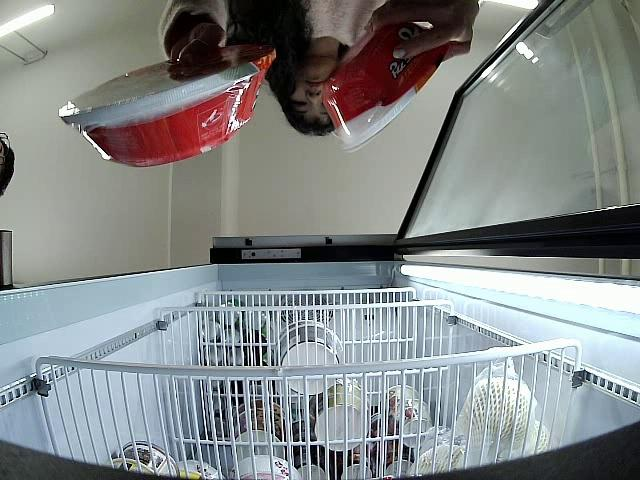00_hand: (365, 0, 480, 63)
10_wangTtukkeong: (59, 46, 276, 169), (321, 18, 447, 151)
